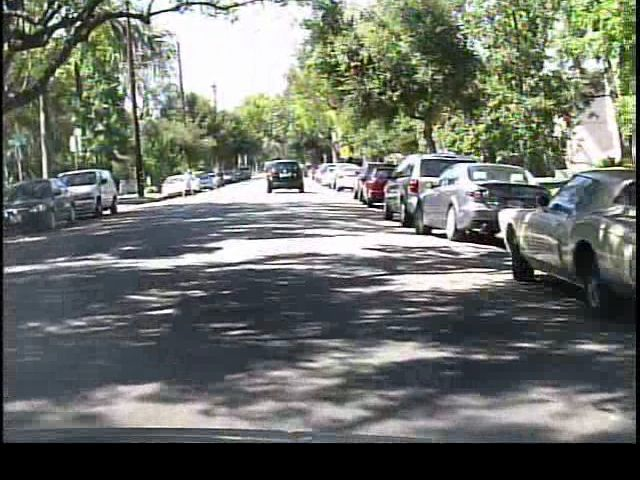person: (181, 165, 197, 201)
